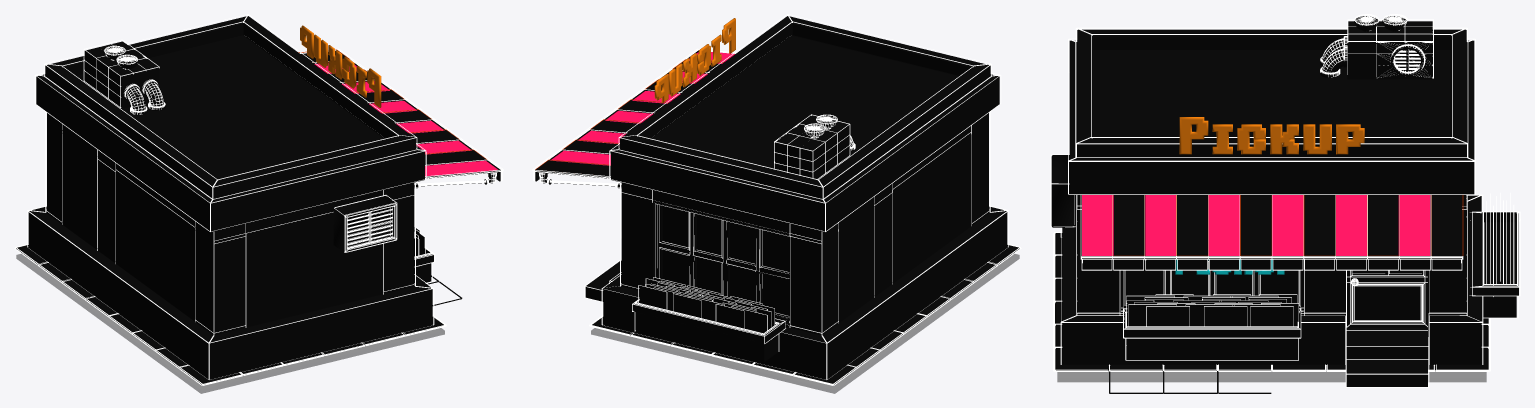
Rendered from buildingmodel-meal-outpost-2.gltf.
3 views of the same model, side by side, from view 1: azimuth 30°, elevation 25°; view 2: azimuth 150°, elevation 25°; view 3: azimuth 270°, elevation 25° (orthographic). The views are drawn at different scales.
Visible parts, largest first — view 1: cartoon_restaurant_OBJ, cartoon_restaurant_OBJ.001, Plane, Text.004; view 2: cartoon_restaurant_OBJ, cartoon_restaurant_OBJ.001, cartoon_restaurant_OBJ.003, Plane, Text.004; view 3: cartoon_restaurant_OBJ, cartoon_restaurant_OBJ.001, Text.004, Plane, cartoon_restaurant_OBJ.003, Text.002.
Boxes of the visible parts, x1,y1,x2,y2 form: cartoon_restaurant_OBJ: [16, 16, 500, 384]; cartoon_restaurant_OBJ.001: [14, 14, 503, 385]; Plane: [16, 254, 444, 393]; Text.004: [300, 25, 381, 107]; cartoon_restaurant_OBJ: [535, 16, 1019, 384]; cartoon_restaurant_OBJ.001: [532, 14, 1021, 385]; cartoon_restaurant_OBJ.003: [663, 206, 789, 315]; Plane: [591, 254, 1019, 393]; Text.004: [654, 18, 735, 102]; cartoon_restaurant_OBJ: [1051, 16, 1518, 393]; cartoon_restaurant_OBJ.001: [1050, 14, 1520, 387]; Text.004: [1179, 117, 1364, 154]; Plane: [1057, 371, 1486, 381]; cartoon_restaurant_OBJ.003: [1126, 271, 1298, 302]; Text.002: [1175, 259, 1284, 274].
Size of the model in its own units: 56.96 by 38.7 by 63.83.
